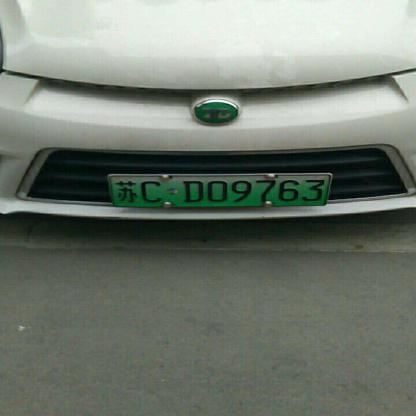lp: (110, 174, 330, 205)
